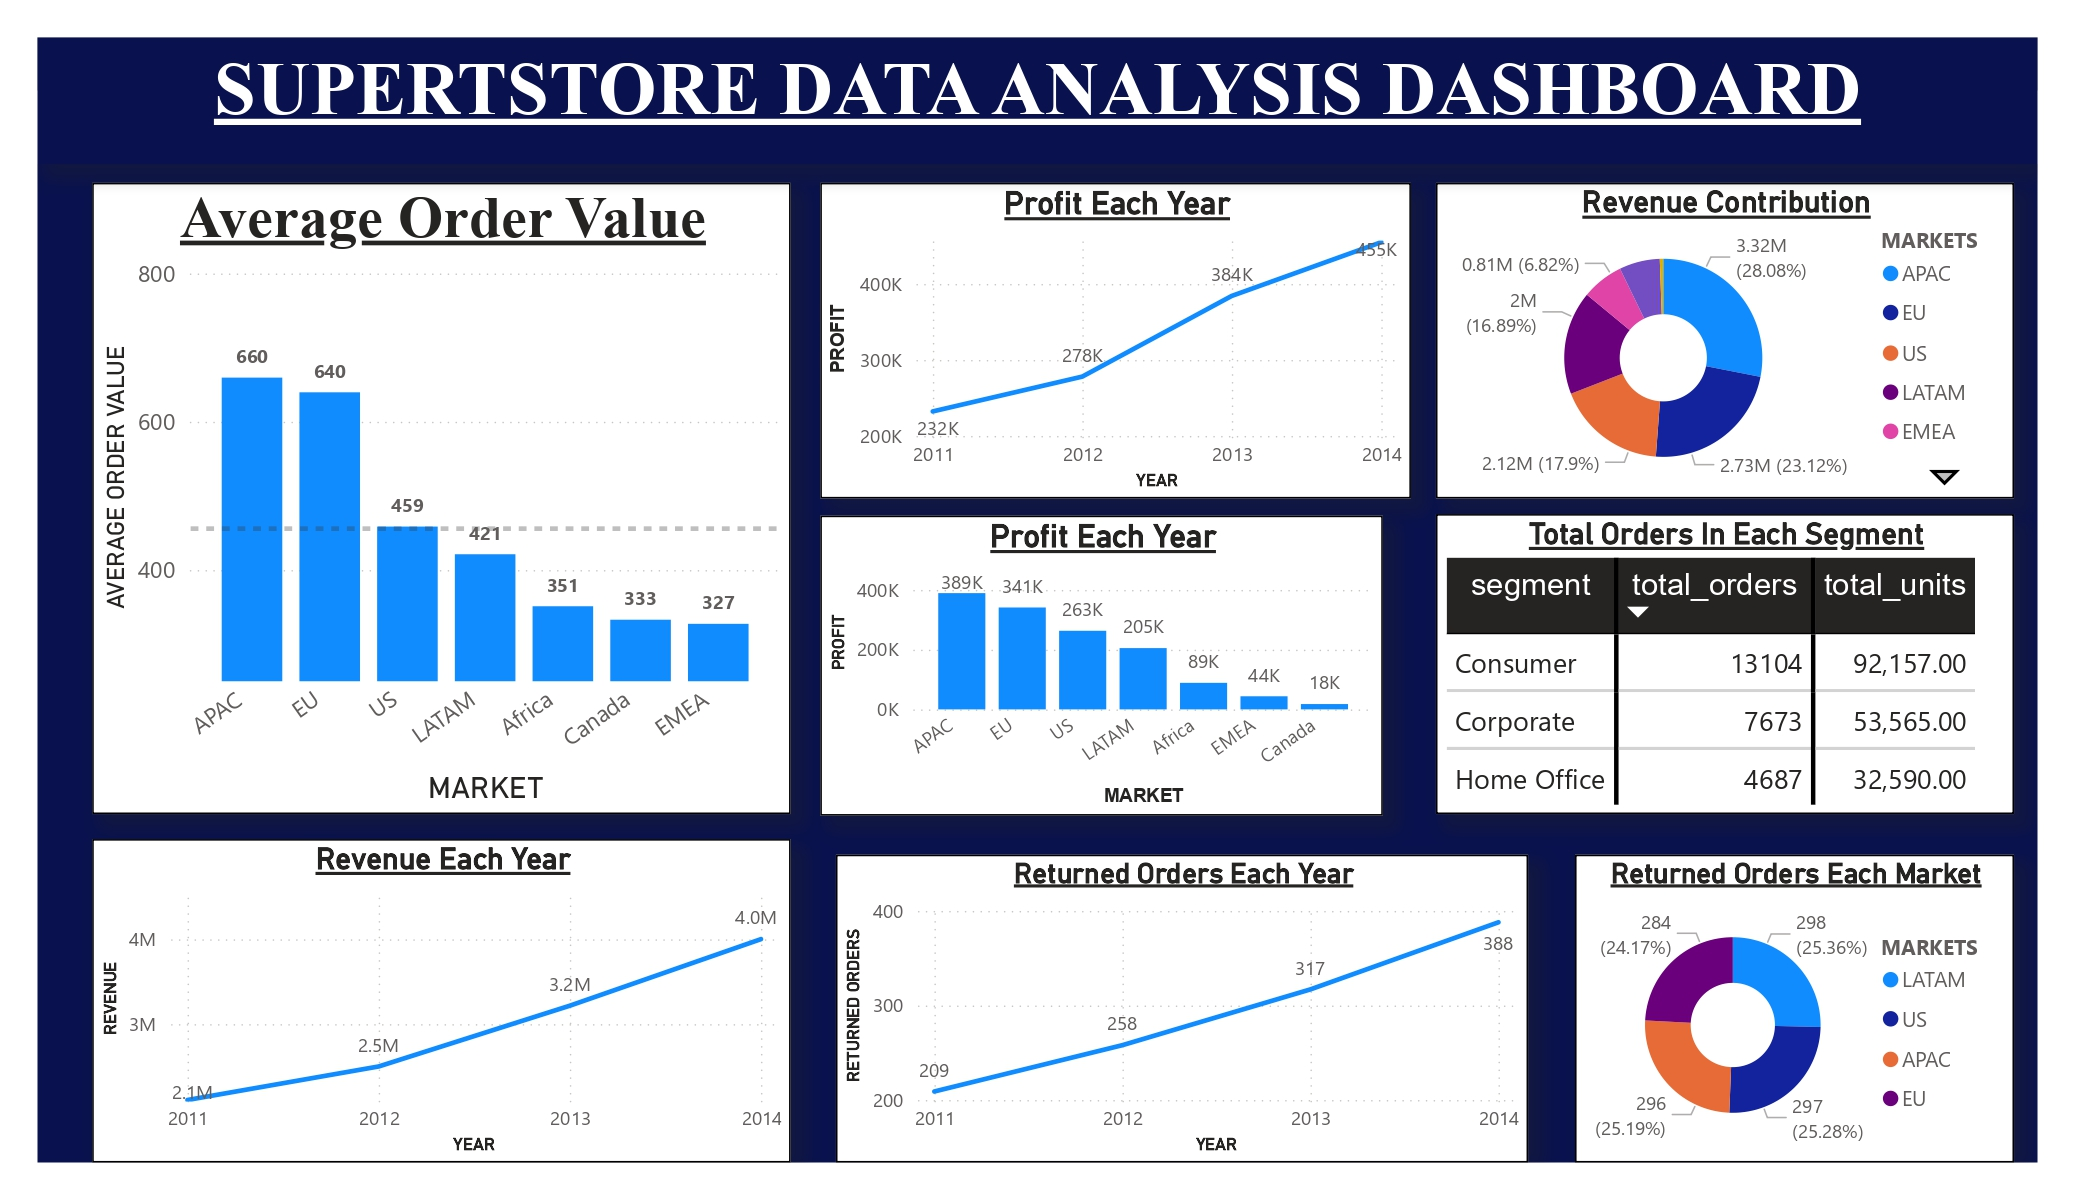

The dashboard page shown, as its layout file describes it:
{"tool":"powerbi","page":{"name":"Page 1","canvas":[1280,720],"ordinal":0},"visuals":[{"type":"clusteredColumnChart","title":"Average Order Value","fields":{"Category":["superstore_kpi aov_per_market (2).market"],"Y":["Sum(superstore_kpi aov_per_market (2).AOV)"]},"box":[35.3,92.6,446.7,404.1],"z":0},{"type":"lineChart","title":"Profit Each Year","fields":{"Y":["Sum(superstore_kpi profit_per_year_per_market (2).Profit)"],"Category":["superstore_kpi profit_per_year_per_market (2).year"]},"box":[501.1,92.6,377.6,202.8],"z":1000},{"type":"clusteredColumnChart","title":"Profit Each Year","fields":{"Category":["superstore_kpi profit_per_year_per_market (2).market"],"Y":["Sum(superstore_kpi profit_per_year_per_market (2).Profit)"]},"box":[501.1,305.6,360,192.5],"z":2000},{"type":"lineChart","title":"Revenue Each Year","fields":{"Category":["superstore_kpi revenue_per_year_per_market.year"],"Y":["Sum(superstore_kpi revenue_per_year_per_market.Revenue)"]},"box":[35.3,512.8,446.7,207.2],"z":3000},{"type":"donutChart","title":"Revenue Contribution","fields":{"Category":["superstore_kpi revenue_per_year_per_market.market"],"Y":["Sum(superstore_kpi revenue_per_year_per_market.Revenue)"]},"box":[894.9,92.6,370.3,202.8],"z":4000},{"type":"lineChart","title":"Returned Orders Each Year","fields":{"Y":["Sum(superstore_kpi return_rate_per_year.return_orders)"],"Category":["superstore_kpi return_rate_per_year.year"]},"box":[511.3,523.1,442.3,196.9],"z":5000},{"type":"donutChart","title":"Returned Orders Each Market","fields":{"Category":["superstore_kpi return_rate_per_market.market"],"Y":["Sum(superstore_kpi return_rate_per_market.return_orders)"]},"box":[984.5,523.1,280.7,196.9],"z":6000},{"type":"tableEx","title":"Total Orders In Each Segment","fields":{"Values":["superstore_kpi orders_per_segment.segment","superstore_kpi orders_per_segment.total_orders","superstore_kpi orders_per_segment.total_units"]},"box":[894.9,305.1,370.1,192.3],"z":7000},{"type":"textbox","box":[0,0,1279.5,81],"z":8000}]}

Visuals, with their boxes in screenshot pixels (x1, y1, x2, y2):
"Average Order Value" clusteredColumnChart: region(93, 182, 791, 814)
"Profit Each Year" lineChart: region(820, 182, 1410, 499)
"Profit Each Year" clusteredColumnChart: region(820, 515, 1383, 816)
"Revenue Each Year" lineChart: region(93, 839, 791, 1162)
"Revenue Contribution" donutChart: region(1436, 182, 2014, 499)
"Returned Orders Each Year" lineChart: region(836, 855, 1528, 1162)
"Returned Orders Each Market" donutChart: region(1576, 855, 2014, 1162)
"Total Orders In Each Segment" tableEx: region(1436, 514, 2014, 815)
textbox: region(38, 38, 2037, 164)
